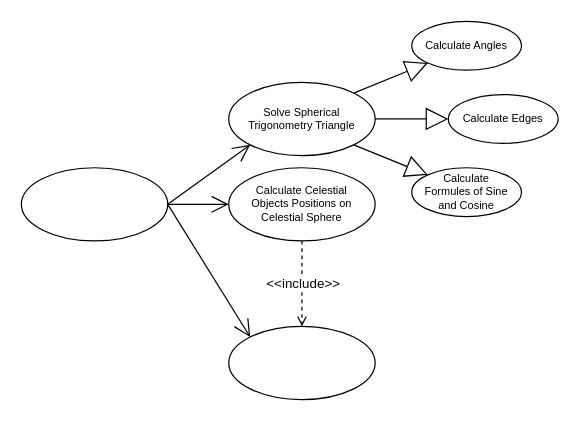
This 580x421 diagram has some shape labels left out. The centre of each missing label's shape, as x and y in pixels:
"Calculate Time of Celestial Objects Rise and Set" goes at pixel 301 362.
"Include Module : Spherical Trigonometry" goes at pixel 94 204.
